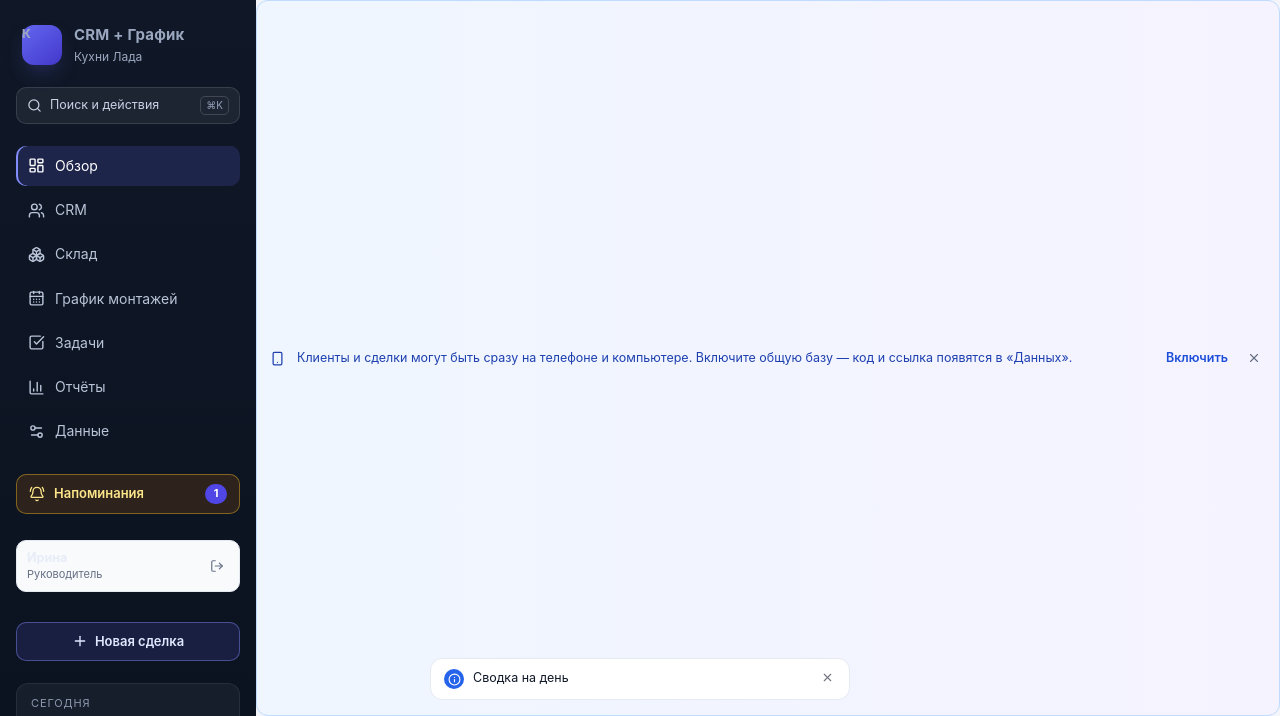
Scenario: управление сотрудниками › «Выйти» возвращает на экран входа
Step 1. Click the button named "Выйти" → (216, 566), box [203,553,229,579]
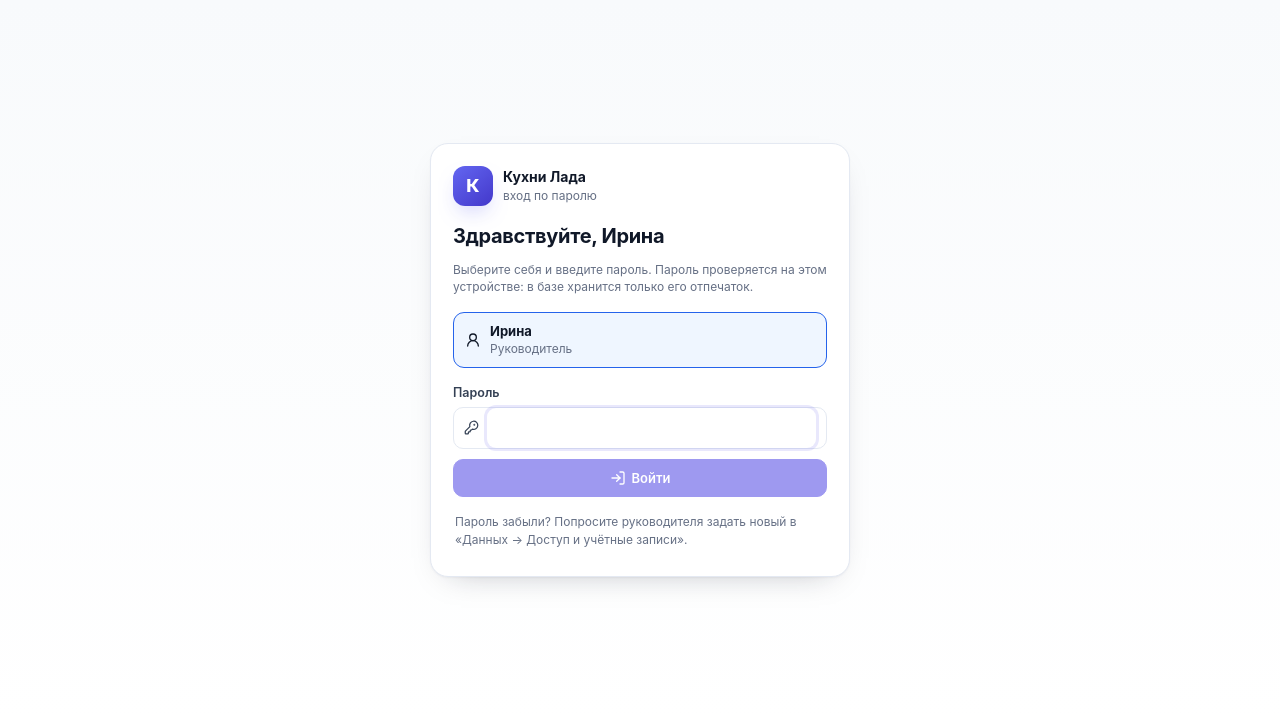
Expected: the heading "Здравствуйте, Ирина" is shown, [453,224,664,248]
